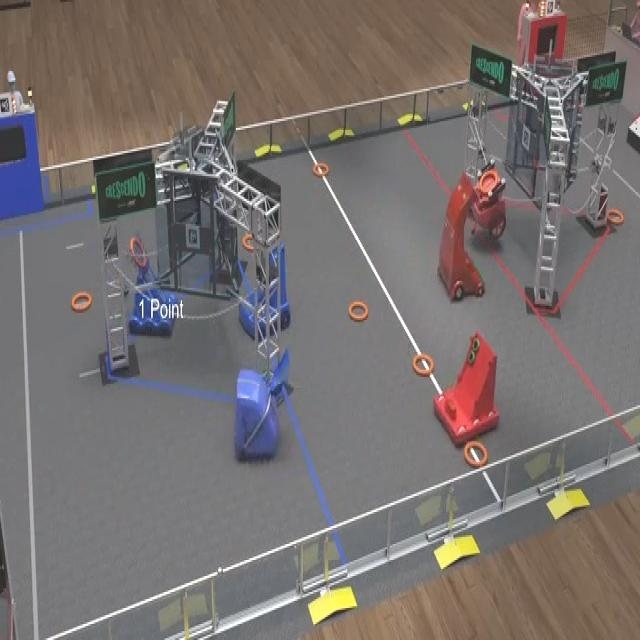notes: (463, 440, 492, 470), (68, 288, 94, 314), (345, 298, 370, 324), (412, 353, 434, 375), (310, 161, 330, 179), (608, 209, 624, 225), (242, 234, 254, 250)
